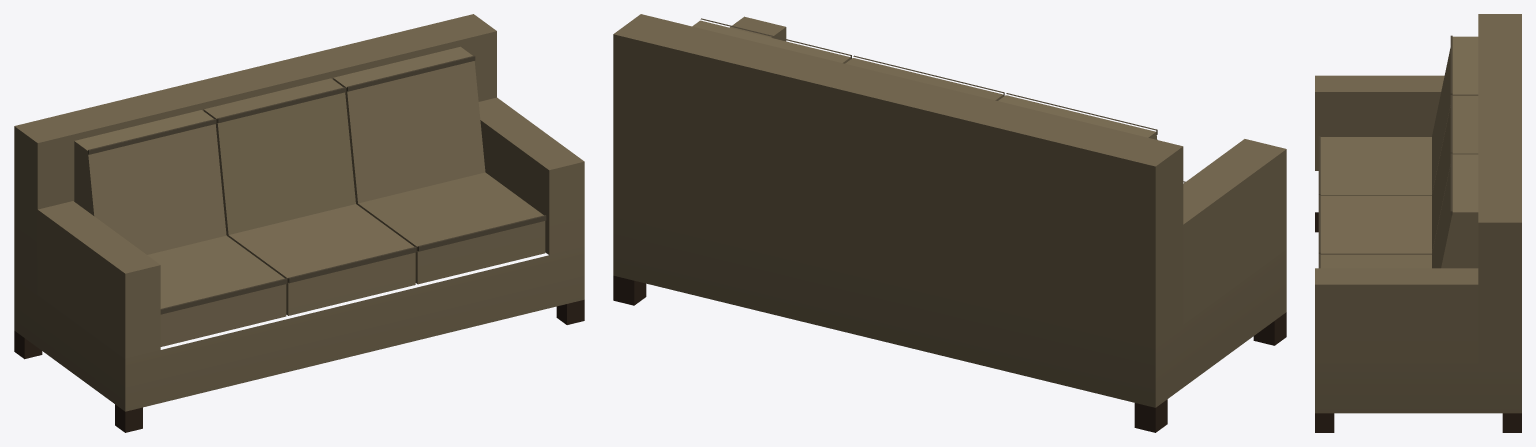
The model's file is sofa.two_seat.three_cushion.glb.
3 renders of one model, left to right at view 1: azimuth 30°, elevation 25°; view 2: azimuth 150°, elevation 25°; view 3: azimuth 270°, elevation 25°, orthographic. The views are drawn at different scales.
Visible parts, largest first — view 1: sofa_two_seat_three_cushion; view 2: sofa_two_seat_three_cushion; view 3: sofa_two_seat_three_cushion.
Boxes of the visible parts, x1,y1,x2,y2 form: sofa_two_seat_three_cushion: (14, 14, 584, 432); sofa_two_seat_three_cushion: (613, 14, 1286, 432); sofa_two_seat_three_cushion: (1315, 14, 1521, 432).
Size of what is drawn, in the model's own units: 1.81 by 0.85 by 0.758.
